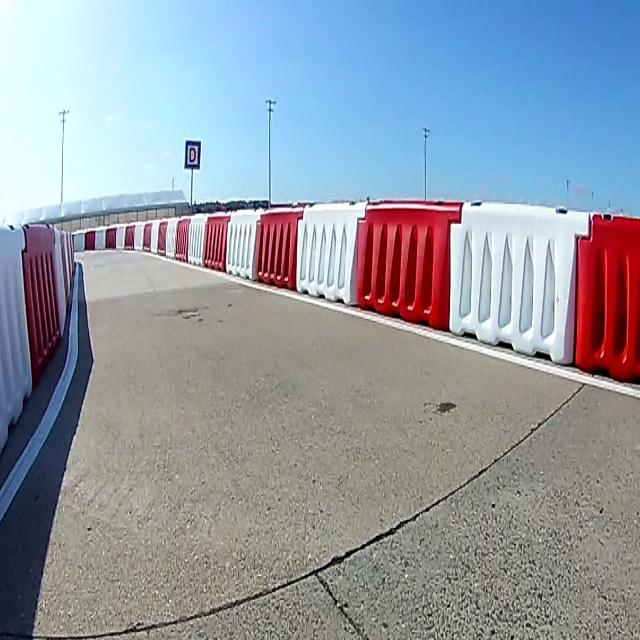durak: (185, 140, 201, 169)
